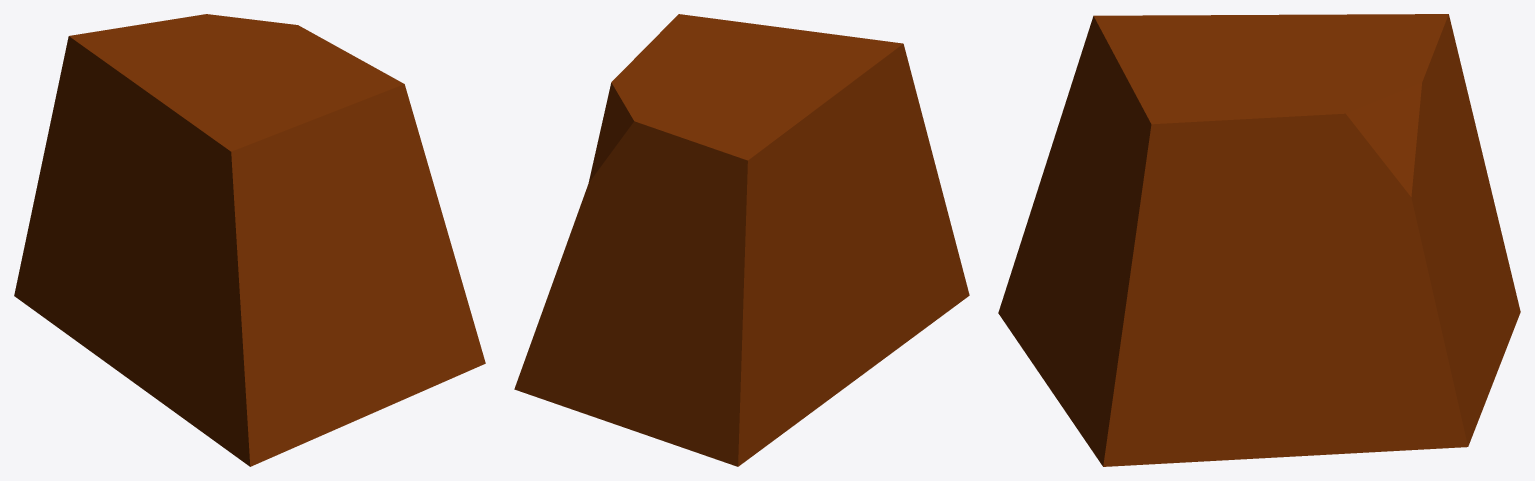
The model's file is stone1.fbx.
The picture shows the model from 3 angles, left to right: view 1: azimuth 30°, elevation 25°; view 2: azimuth 150°, elevation 25°; view 3: azimuth 270°, elevation 25°; orthographic projection. The views are drawn at different scales.
Parts seen in each view (by area): view 1: stone1; view 2: stone1; view 3: stone1.
Part boxes in pixels (x1=…): stone1: x1=14, y1=14, x2=485, y2=466; stone1: x1=514, y1=14, x2=969, y2=466; stone1: x1=998, y1=14, x2=1520, y2=466.
Bounding box in the file's own units: 80.26 × 74.97 × 114.
